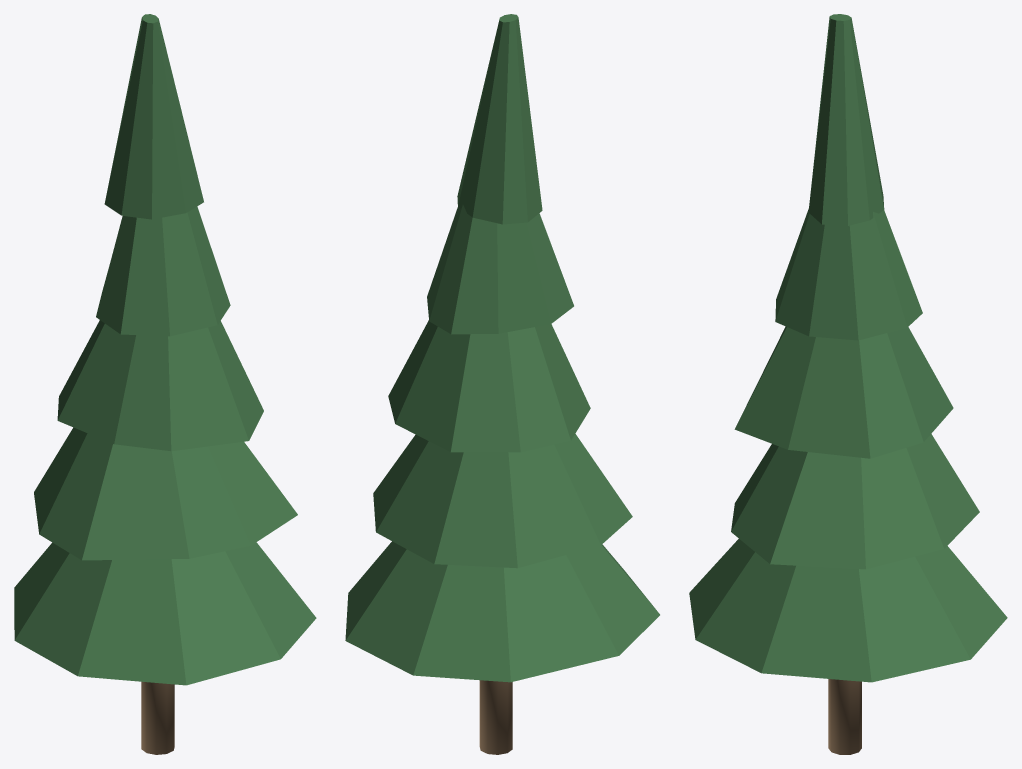
The model's file is tree_pine.glb.
3 renders of one model, left to right at view 1: azimuth 30°, elevation 25°; view 2: azimuth 150°, elevation 25°; view 3: azimuth 270°, elevation 25°, orthographic.
Parts seen in each view (by area): view 1: Tree; view 2: Tree; view 3: Tree.
Boxes of the visible parts, box(x1,y1,x2,y2) form: Tree: box(14, 14, 316, 754); Tree: box(345, 14, 659, 754); Tree: box(689, 14, 1007, 754).
Size of the model in its own units: 5.1 by 13.3 by 5.29.
